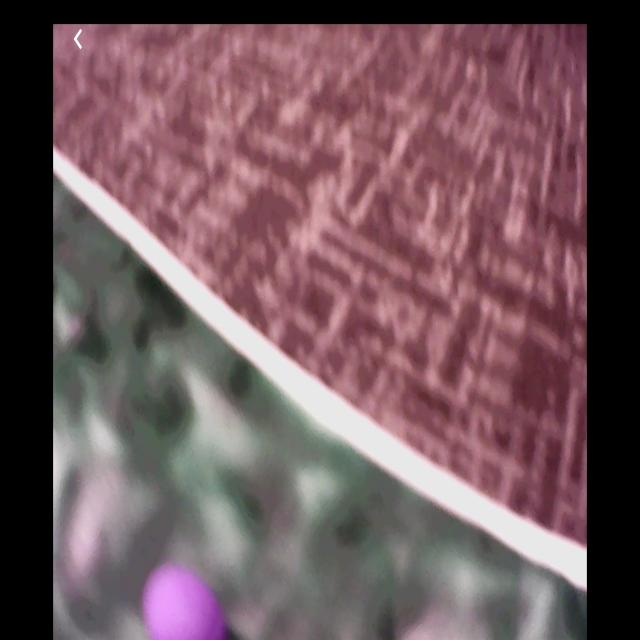ball: (144, 565, 226, 640)
